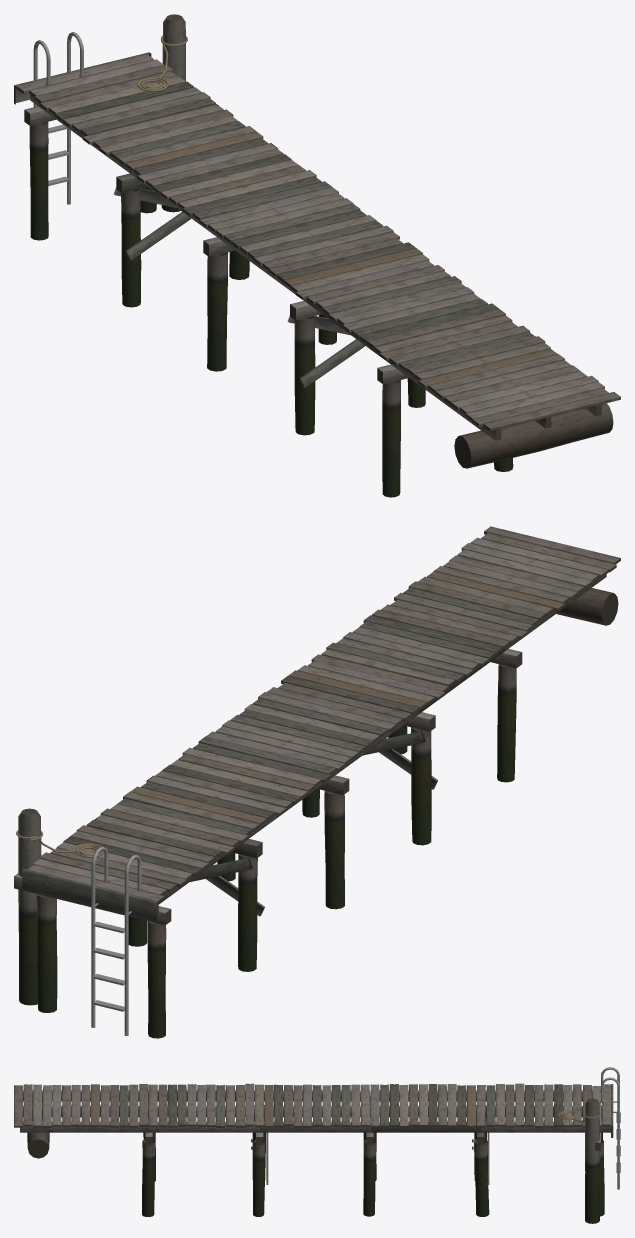
File: wooden-jetty.glb
The picture shows the model from 3 angles, top to bottom: view 1: azimuth 30°, elevation 25°; view 2: azimuth 150°, elevation 25°; view 3: azimuth 270°, elevation 25°; orthographic projection. The views are drawn at different scales.
Visible parts, largest first — view 1: wooden-jetty_lod0; view 2: wooden-jetty_lod0; view 3: wooden-jetty_lod0.
Part boxes in pixels (x1,y1,x2,y2): wooden-jetty_lod0: (14, 14, 620, 497); wooden-jetty_lod0: (14, 526, 620, 1038); wooden-jetty_lod0: (14, 1067, 620, 1223).
Size of the model in its own units: 1.91 by 2.16 by 9.88.
1 material, 1 textured.
